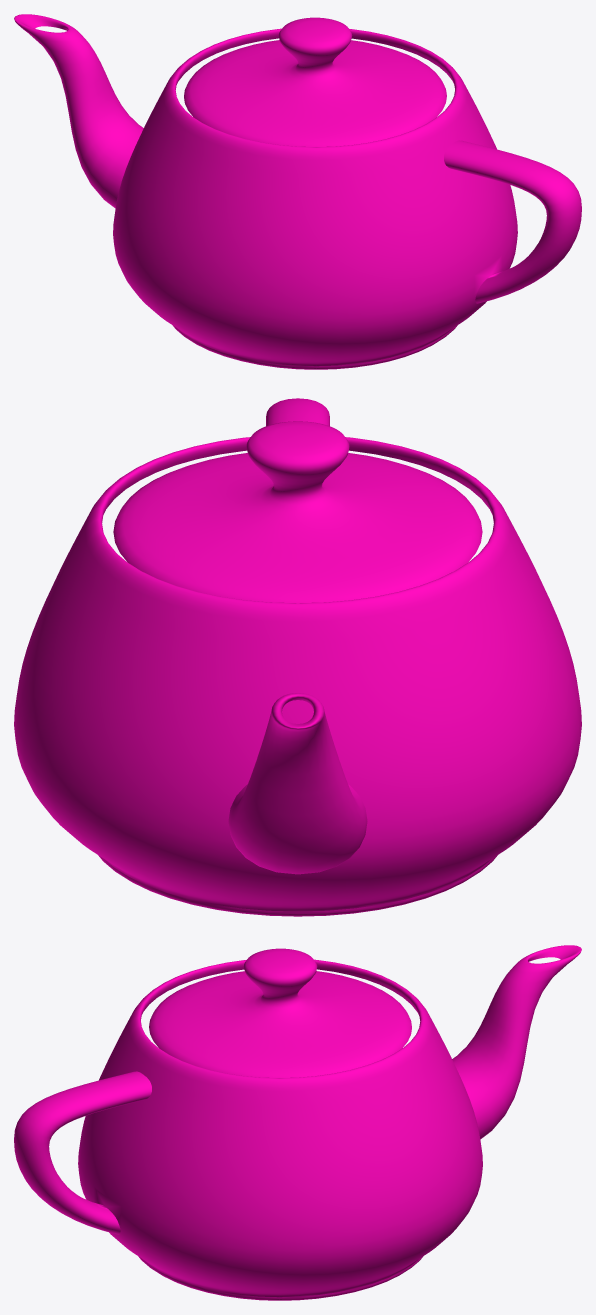
The model's file is teapot.gltf.
3 views of the same model, one above another, from view 1: azimuth 30°, elevation 25°; view 2: azimuth 150°, elevation 25°; view 3: azimuth 270°, elevation 25° (orthographic). The views are drawn at different scales.
Visible parts, largest first — view 1: Teapot; view 2: Teapot; view 3: Teapot.
Part boxes in pixels (x1=…): Teapot: x1=14, y1=14, x2=581, y2=369; Teapot: x1=14, y1=398, x2=581, y2=916; Teapot: x1=14, y1=945, x2=581, y2=1300.
Size of the model in its own units: 40.13 by 31.5 by 56.3.
